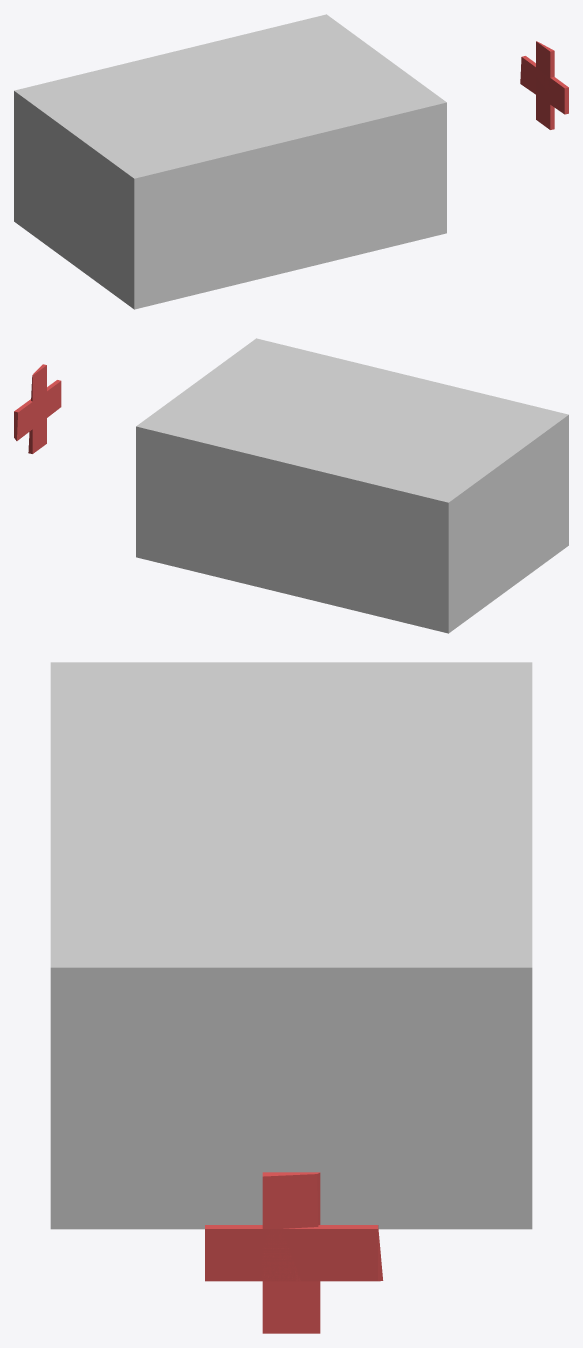
Rendered from medkit.glb.
3 views of the same model, one above another, from view 1: azimuth 30°, elevation 25°; view 2: azimuth 150°, elevation 25°; view 3: azimuth 270°, elevation 25° (orthographic). The views are drawn at different scales.
Parts seen in each view (by area): view 1: medkit; view 2: medkit; view 3: medkit.
Boxes of the visible parts, x1=… form: medkit: x1=14, y1=14, x2=568, y2=309; medkit: x1=14, y1=338, x2=568, y2=633; medkit: x1=50, y1=662, x2=532, y2=1333.
Bounding box in the file's own units: 0.227 × 0.06 × 0.1.
